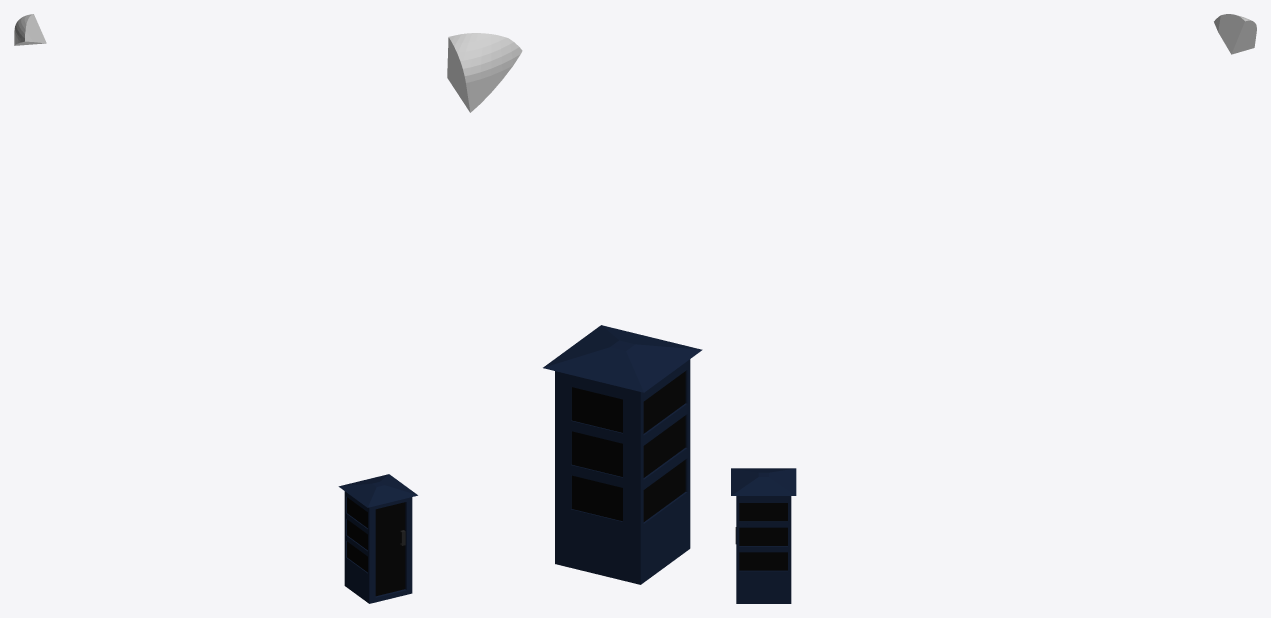
File: tel_dopo.obj
The picture shows the model from 3 angles, left to right: view 1: azimuth 30°, elevation 25°; view 2: azimuth 150°, elevation 25°; view 3: azimuth 270°, elevation 25°; orthographic projection. The views are drawn at different scales.
Parts seen in each view (by area): view 1: PhoneBooth_01_Cube.001, obj_0_cell.089; view 2: PhoneBooth_01_Cube.001, obj_0_cell.089, PhoneBooth_01_Cube.001_cell.034, PhoneBooth_01_Cube.001_cell.028, PhoneBooth_01_Cube.001_cell.023, PhoneBooth_01_Cube.001_cell.038, PhoneBooth_01_Cube.001_cell.097, PhoneBooth_01_Cube.001_cell.041, PhoneBooth_01_Cube.001_cell.016, PhoneBooth_01_Cube.001_cell.075, PhoneBooth_01_Cube.001_cell.120, PhoneBooth_01_Cube.001_cell.018 (+1 smaller); view 3: PhoneBooth_01_Cube.001, obj_0_cell.089.
Boxes of the visible parts, box(x1,y1,x2,y2) form: PhoneBooth_01_Cube.001: box(341, 474, 415, 603); obj_0_cell.089: box(14, 14, 46, 45); PhoneBooth_01_Cube.001: box(543, 326, 702, 584); obj_0_cell.089: box(447, 33, 522, 112); PhoneBooth_01_Cube.001_cell.034: box(597, 544, 634, 577); PhoneBooth_01_Cube.001_cell.028: box(595, 366, 647, 389); PhoneBooth_01_Cube.001_cell.023: box(634, 538, 664, 579); PhoneBooth_01_Cube.001_cell.038: box(559, 351, 599, 378); PhoneBooth_01_Cube.001_cell.097: box(563, 490, 596, 542); PhoneBooth_01_Cube.001_cell.041: box(561, 535, 596, 568); PhoneBooth_01_Cube.001_cell.016: box(631, 341, 669, 368); PhoneBooth_01_Cube.001_cell.075: box(560, 505, 590, 540); PhoneBooth_01_Cube.001_cell.120: box(631, 402, 663, 437); PhoneBooth_01_Cube.001_cell.018: box(576, 344, 614, 365); PhoneBooth_01_Cube.001: box(731, 468, 796, 603); obj_0_cell.089: box(1214, 14, 1256, 54).
Size of the model in its own units: 26.78 by 65.05 by 61.73.
